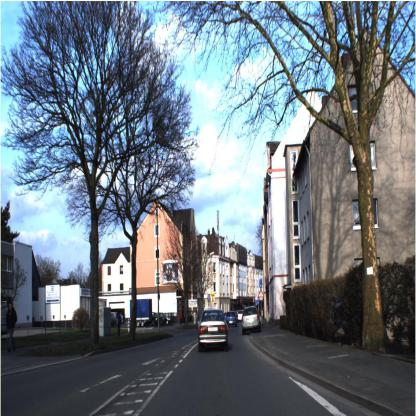danger: (256, 287, 267, 301)
